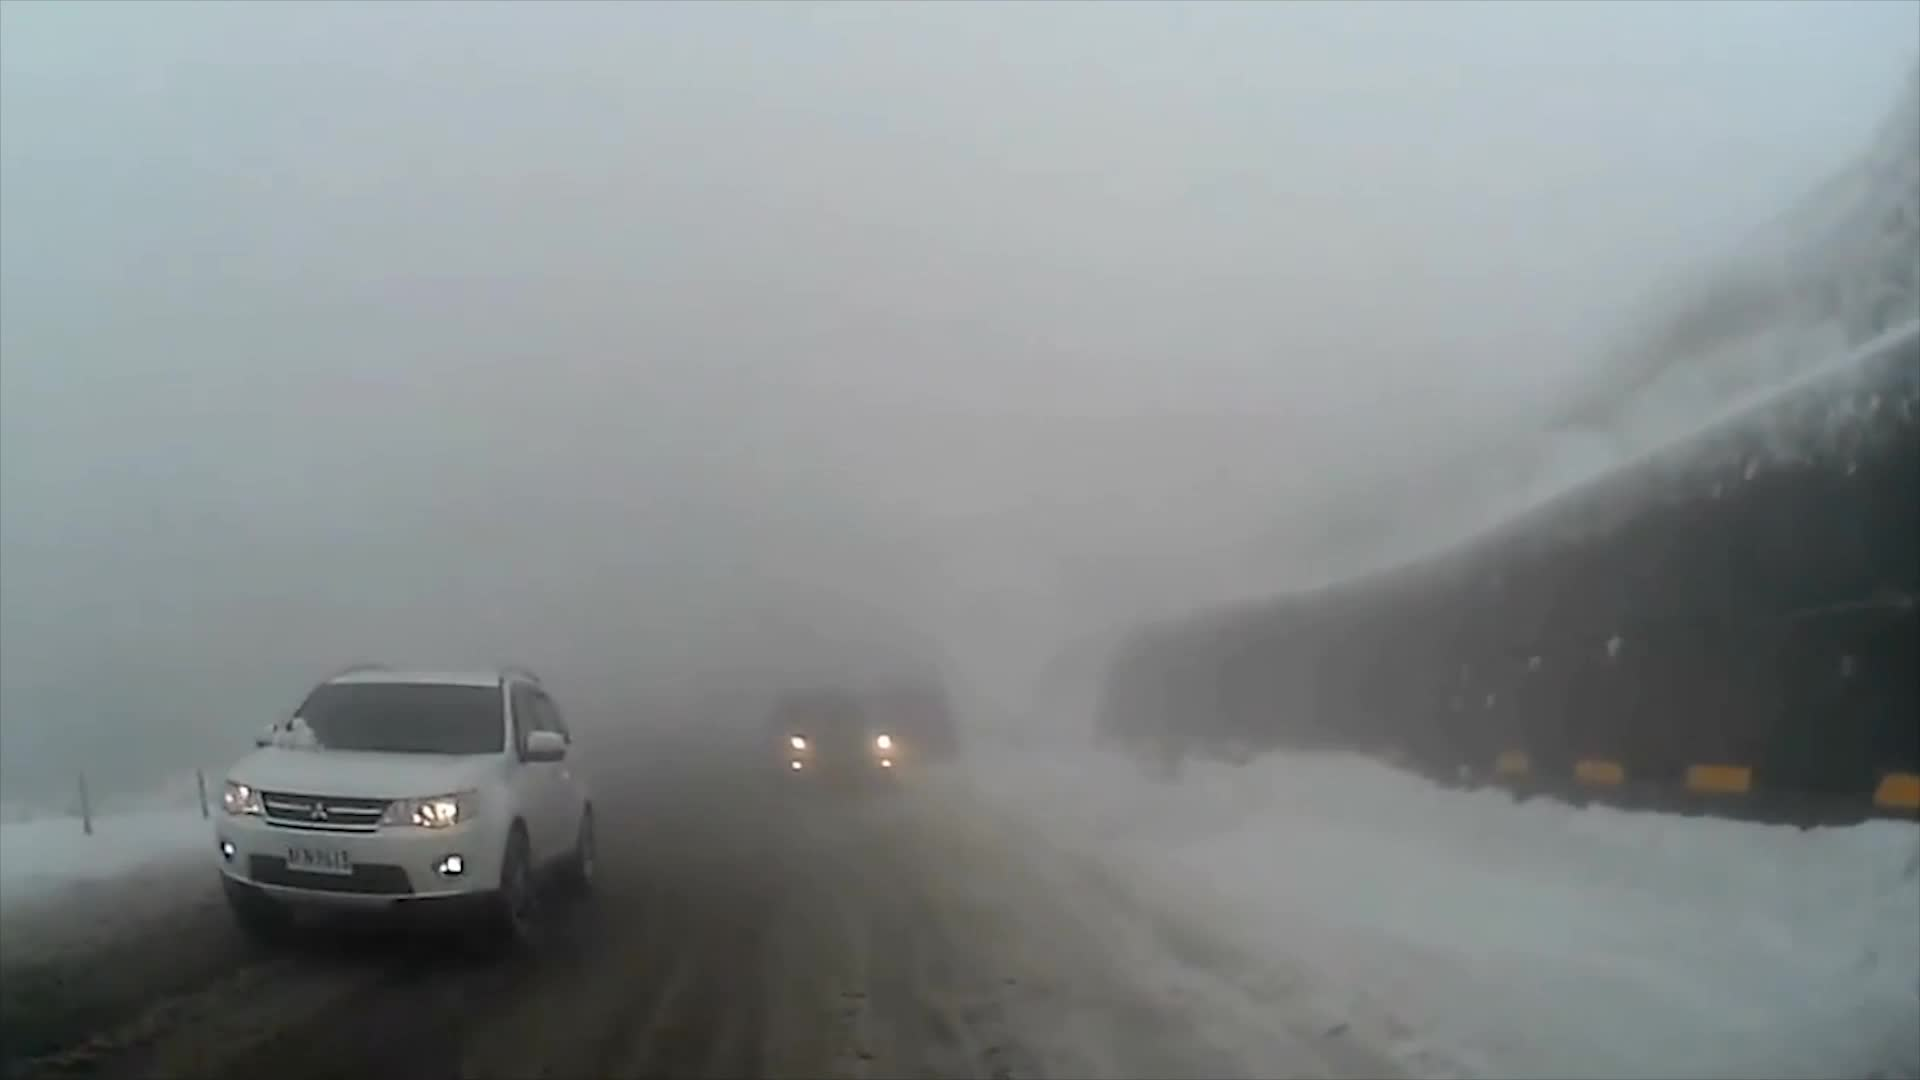vehicle: (210, 662, 597, 952), (756, 688, 899, 800)
